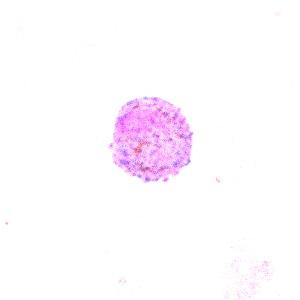Infected: (113, 94, 192, 181)
